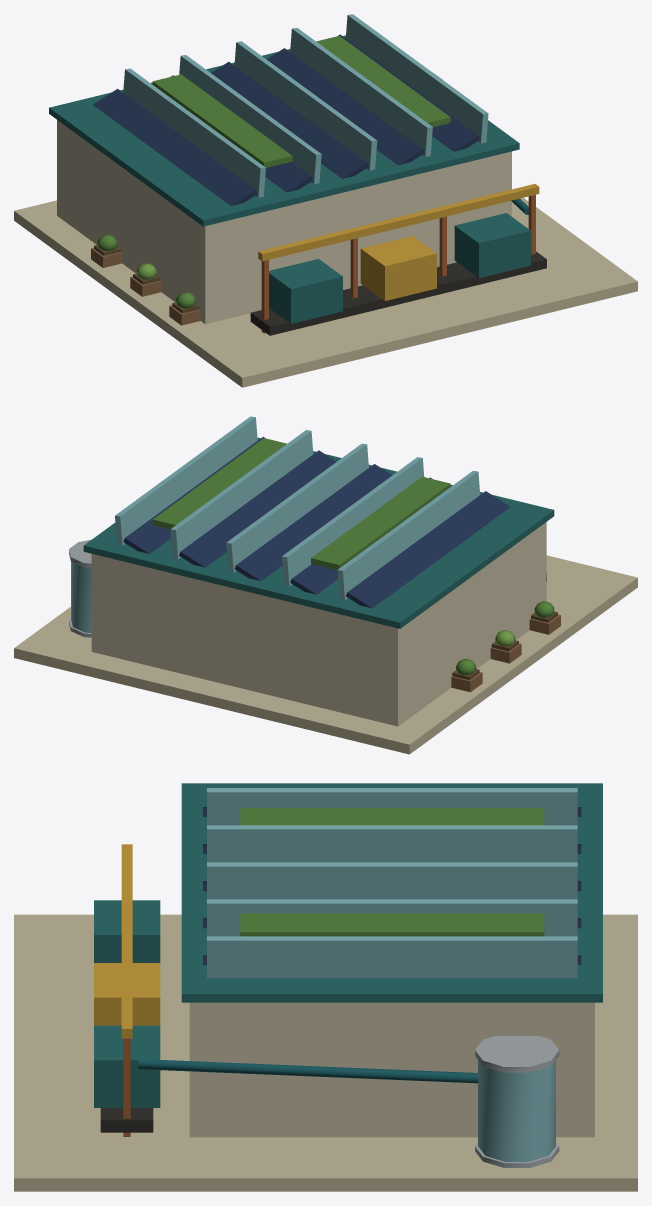
File: b12-mercedonian-factory-v2-lod0.glb
The picture shows the model from 3 angles, top to bottom: view 1: azimuth 30°, elevation 25°; view 2: azimuth 150°, elevation 25°; view 3: azimuth 270°, elevation 25°; orthographic projection. The views are drawn at different scales.
Parts seen in each view (by area): view 1: MESH_B12_MERCEDONIAN_FACTORY; view 2: MESH_B12_MERCEDONIAN_FACTORY; view 3: MESH_B12_MERCEDONIAN_FACTORY.
Boxes of the visible parts, box(x1,y1,x2,y2) form: MESH_B12_MERCEDONIAN_FACTORY: box(14, 14, 637, 387); MESH_B12_MERCEDONIAN_FACTORY: box(14, 416, 637, 754); MESH_B12_MERCEDONIAN_FACTORY: box(14, 783, 637, 1191).
Bounding box in the file's own units: 16 × 5.64 × 16.
